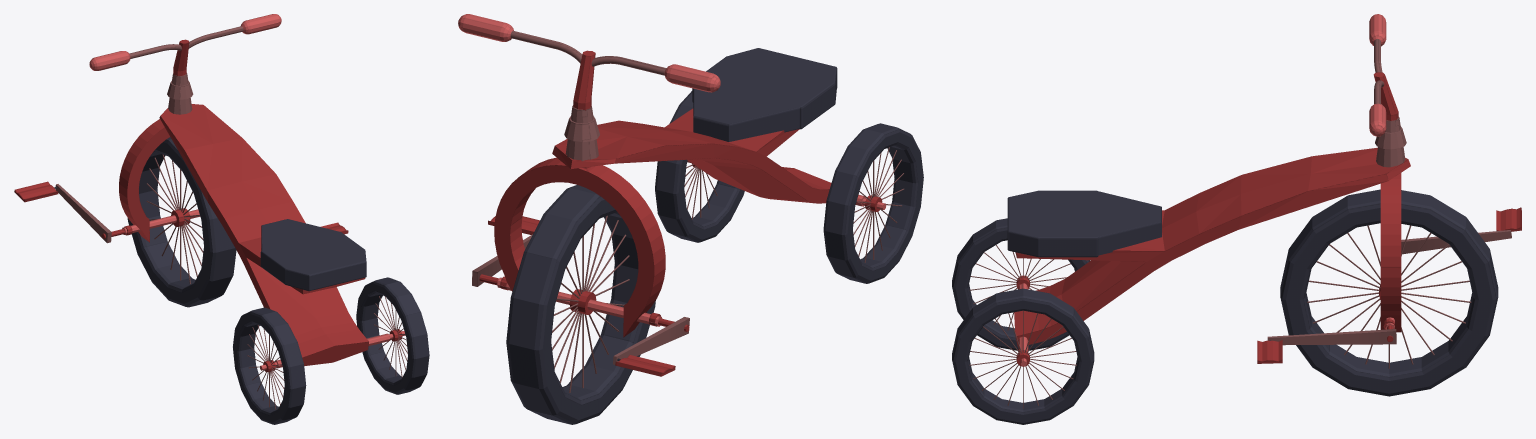
File: a0e42054-682a-4fee-b77b-60e2b75dab44.glb
3 renders of one model, left to right at view 1: azimuth 30°, elevation 25°; view 2: azimuth 150°, elevation 25°; view 3: azimuth 270°, elevation 25°, orthographic. The views are drawn at different scales.
Visible parts, largest first — view 1: Node; view 2: Node; view 3: Node.
Part boxes in pixels (bbox=[...]): Node: bbox=[14, 14, 429, 424]; Node: bbox=[458, 14, 923, 424]; Node: bbox=[952, 14, 1521, 424].
Bounding box in the file's own units: 364 × 411 × 656.
Materials: 1 (1 with a texture image).
